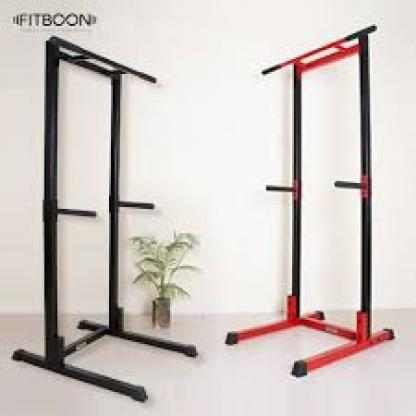chinning dipping: (226, 24, 397, 377), (12, 35, 155, 401)
